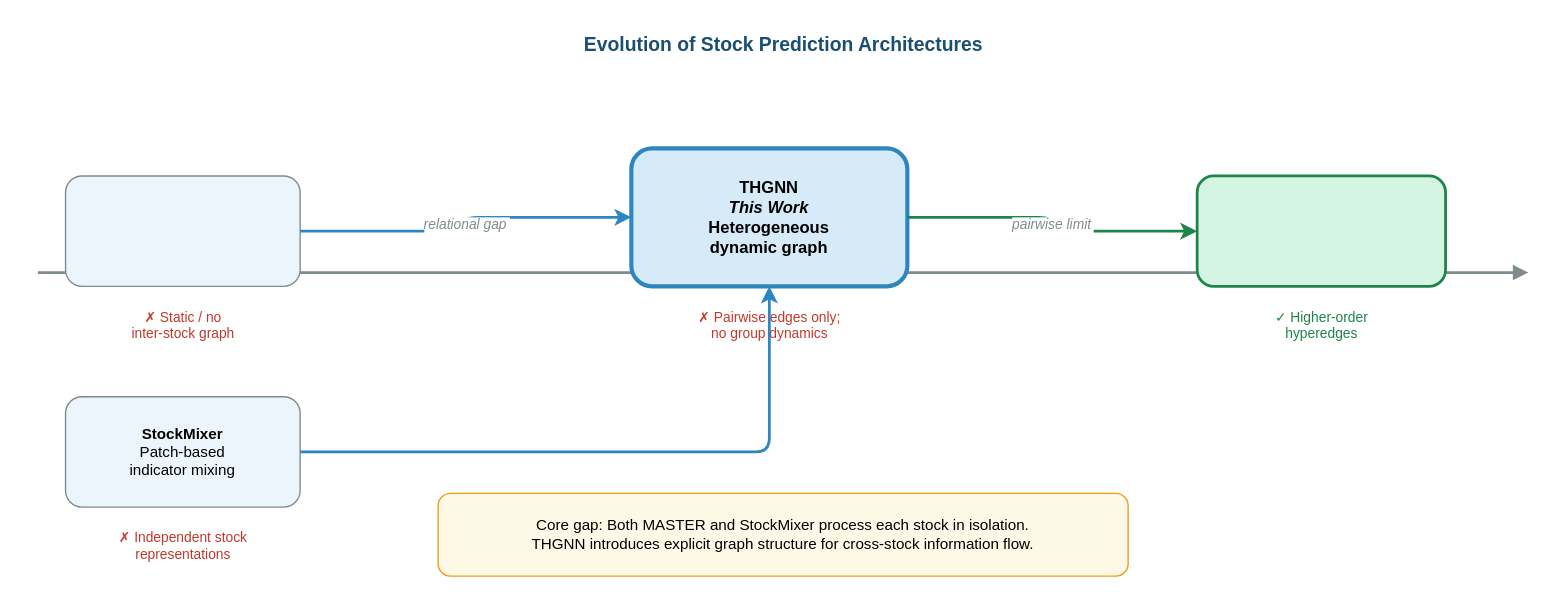
Some shapes in this 1565 by 600 pixel diagram are drawn without their labels. Each missing label, with the centre of its shape:
Hypergraph STHAN-SR MaGNet: [1320,230]
MASTER Market-guided attention gating: [182,230]
